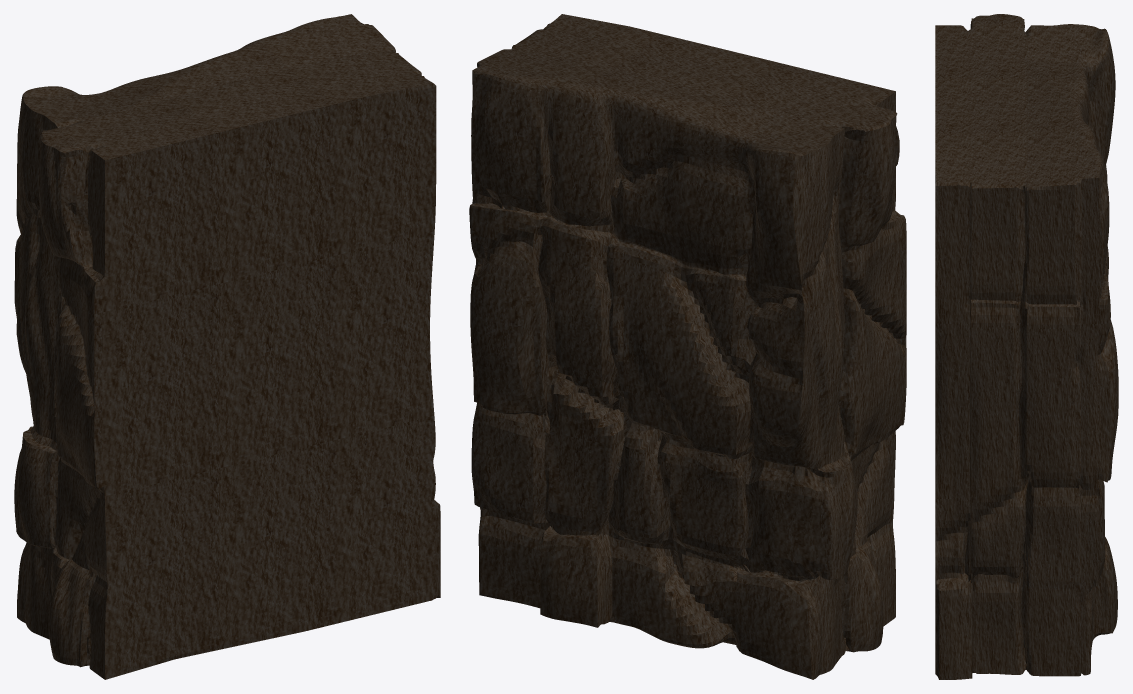
Rendered from cave-wall-low1.glb.
The picture shows the model from 3 angles, left to right: view 1: azimuth 30°, elevation 25°; view 2: azimuth 150°, elevation 25°; view 3: azimuth 270°, elevation 25°; orthographic projection. The views are drawn at different scales.
Visible parts, largest first — view 1: Cube; view 2: Cube; view 3: Cube.
Part boxes in pixels (left/top/right/bottom): Cube: left=14, top=14, right=440, bottom=679; Cube: left=469, top=14, right=906, bottom=679; Cube: left=935, top=14, right=1118, bottom=679.
Bounding box in the file's own units: 4.5 × 6.09 × 2.01.
1 material, 1 textured.
